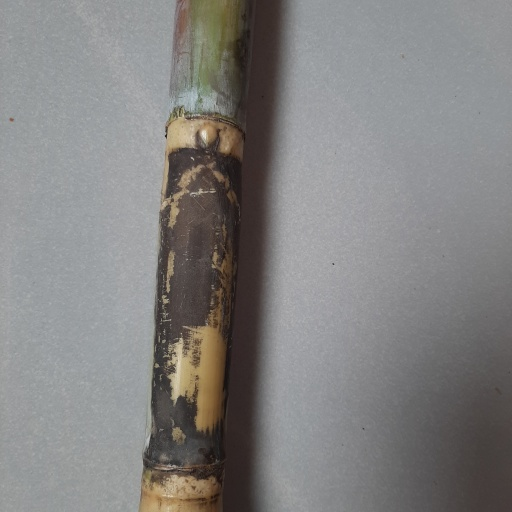Bud: (195, 123, 219, 158)
